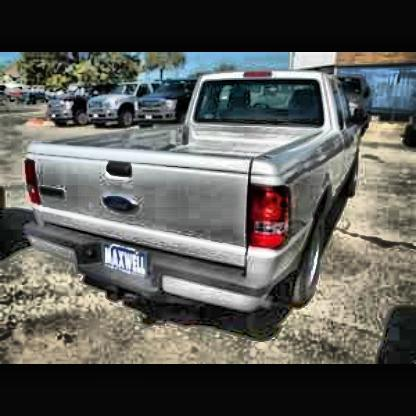Ford Ranger SuperCab 2011: (22, 68, 364, 324)
